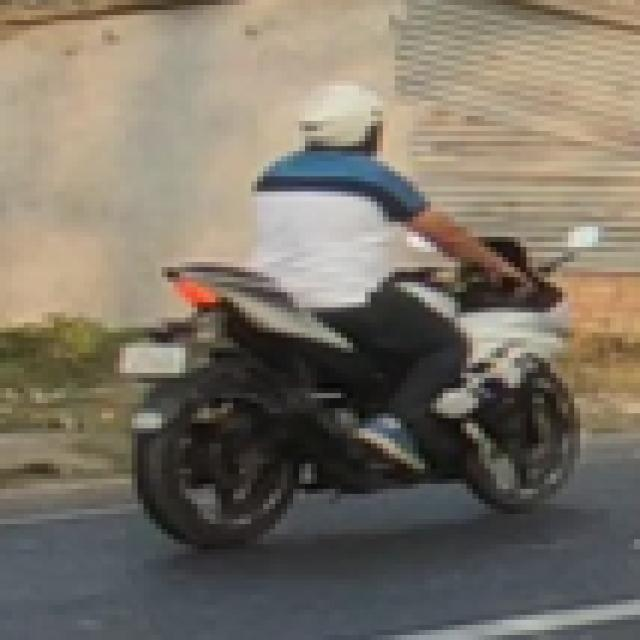Motorized2wheleer: (113, 243, 586, 540)
